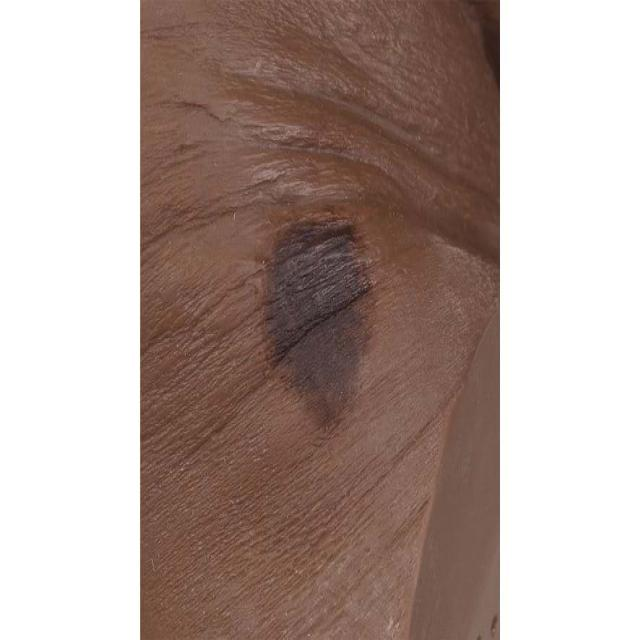DTI: (262, 215, 371, 435)
